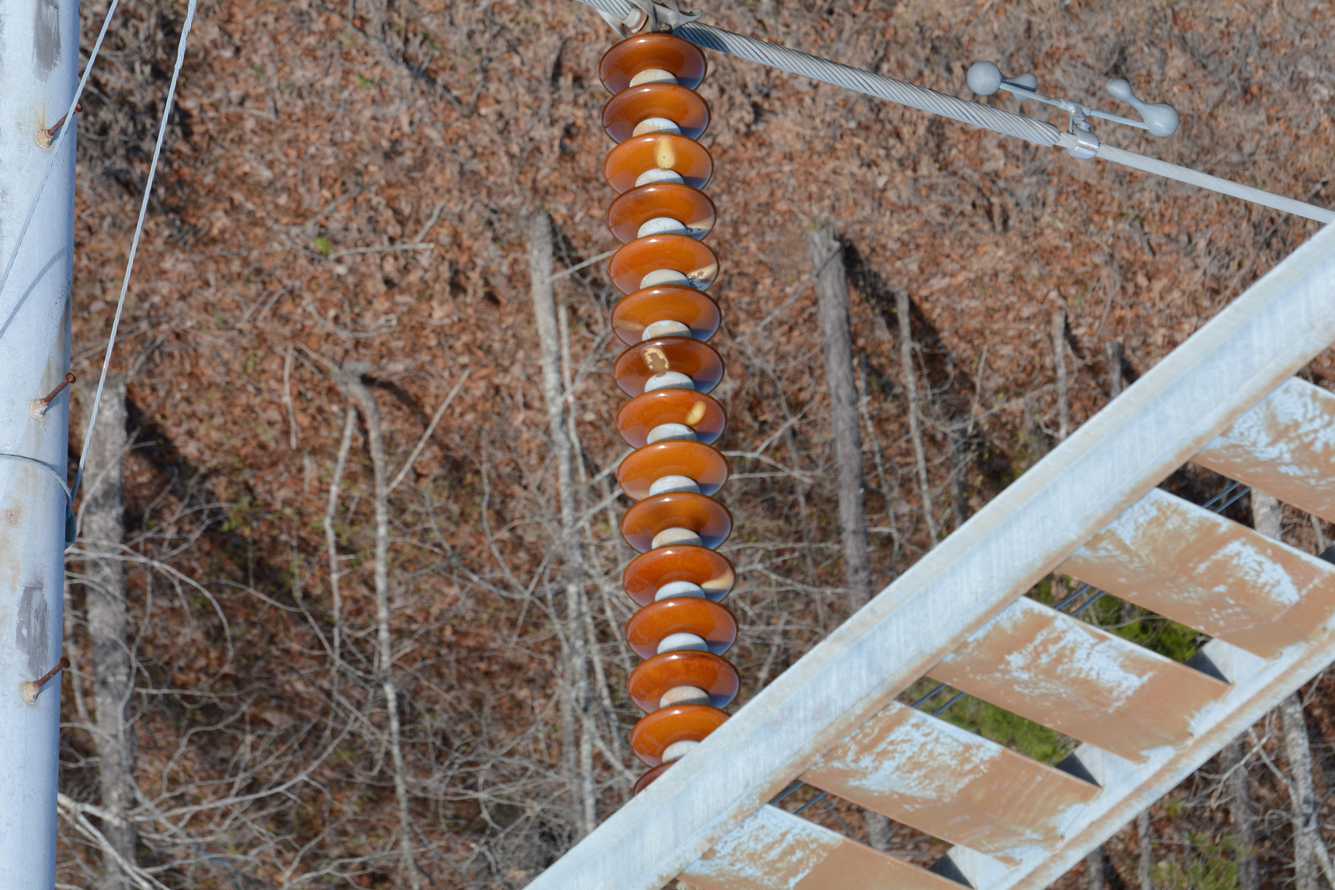Flashover: (698, 568, 734, 599), (640, 346, 673, 378), (684, 261, 719, 291), (651, 134, 676, 171), (684, 214, 715, 240), (684, 400, 709, 429), (611, 314, 646, 334)
hammer: (960, 60, 1178, 169)
insulator: (596, 33, 736, 801)
